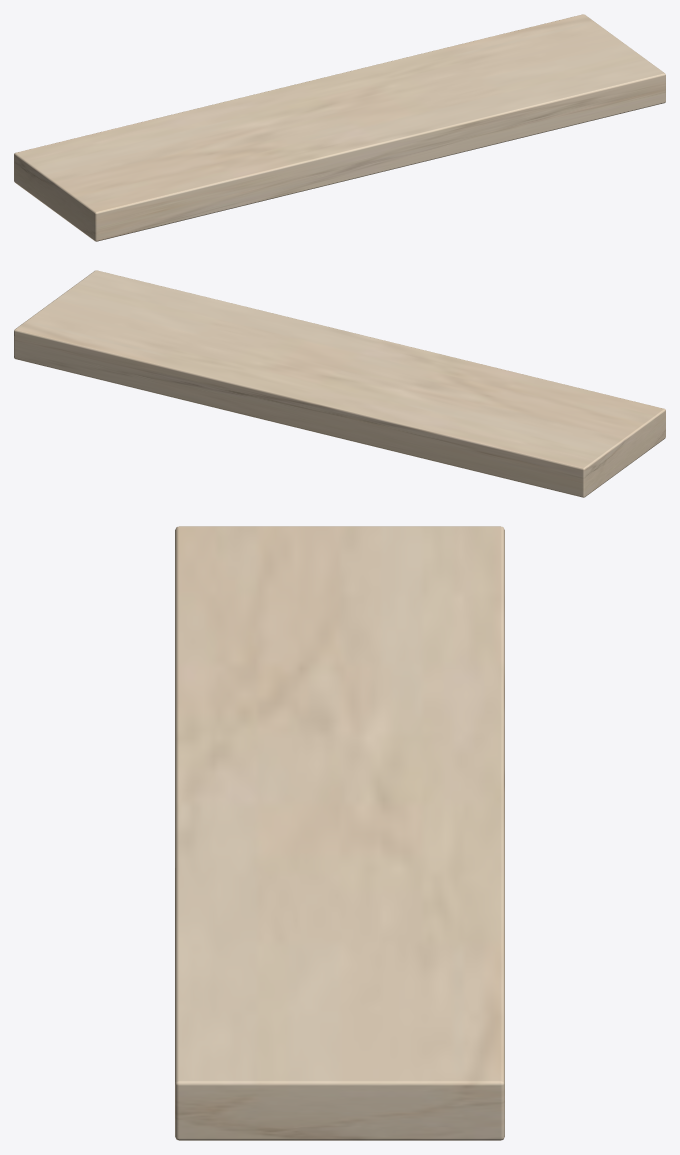
The model's file is shelf-floating-marble.glb.
3 renders of one model, top to bottom at view 1: azimuth 30°, elevation 25°; view 2: azimuth 150°, elevation 25°; view 3: azimuth 270°, elevation 25°, orthographic. The views are drawn at different scales.
Visible parts, largest first — view 1: shelf-floating-marble authored assembly; view 2: shelf-floating-marble authored assembly; view 3: shelf-floating-marble authored assembly.
Boxes of the visible parts, left/top/right/bottom form: shelf-floating-marble authored assembly: left=14, top=14, right=665, bottom=241; shelf-floating-marble authored assembly: left=14, top=270, right=665, bottom=497; shelf-floating-marble authored assembly: left=175, top=526, right=504, bottom=1140.
Size of the model in its own units: 1 by 0.05 by 0.25.
1 material, 1 textured.
